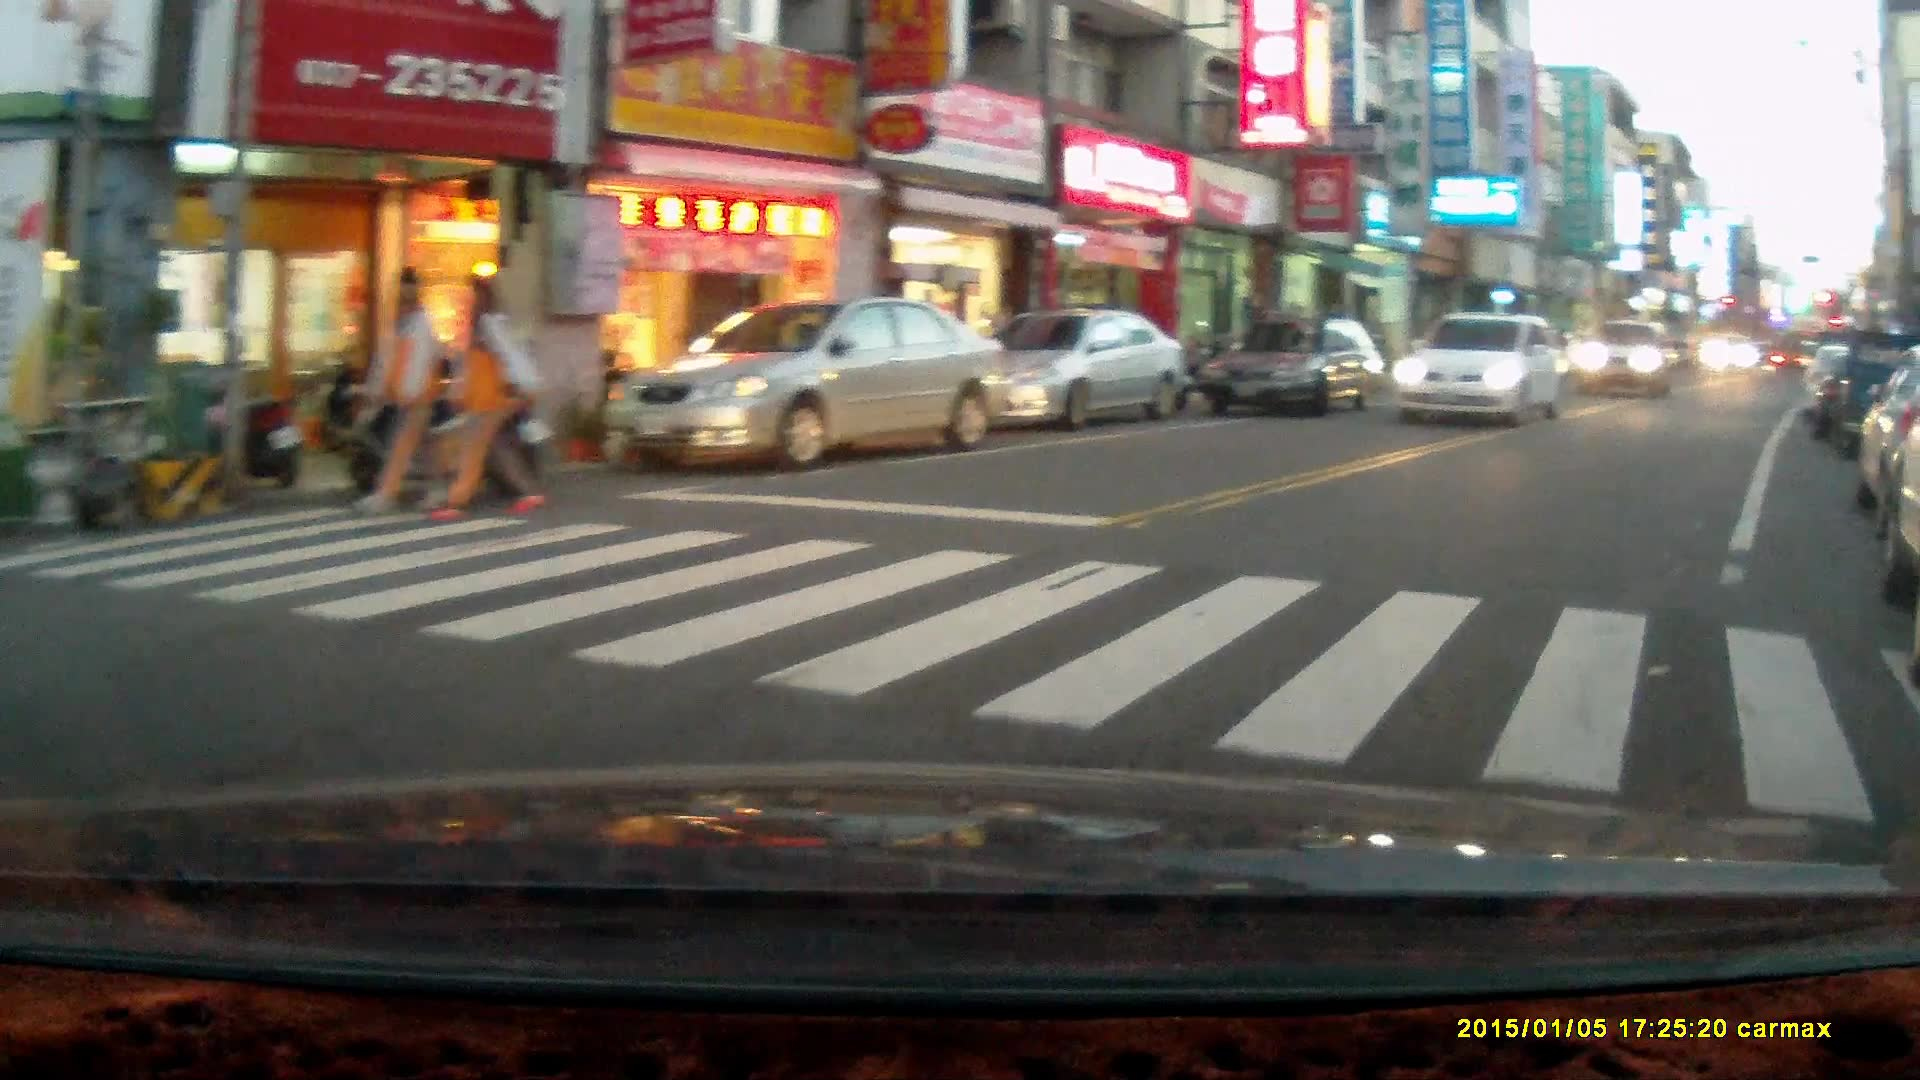pedestrian: (435, 272, 544, 523), (358, 262, 448, 515)
vehicle: (605, 298, 1004, 467), (950, 309, 1187, 428), (1388, 311, 1565, 428), (1200, 321, 1388, 420), (1567, 316, 1684, 400), (1702, 333, 1764, 378)
